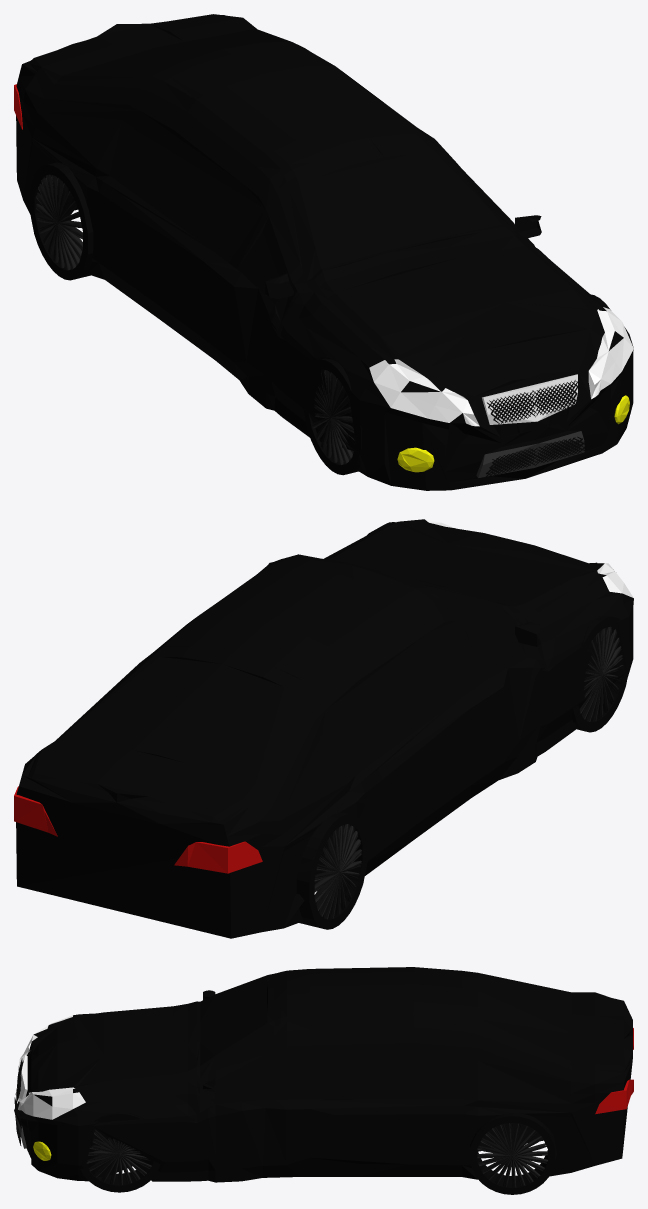
The model's file is CROWN_holefilled4.obj.
3 views of the same model, one above another, from view 1: azimuth 30°, elevation 25°; view 2: azimuth 150°, elevation 25°; view 3: azimuth 270°, elevation 25° (orthographic). The views are drawn at different scales.
Visible parts, largest first — view 1: object 2, auto_filled_holes; view 2: object 2, auto_filled_holes; view 3: object 2, auto_filled_holes.
Boxes of the visible parts, x1,y1,x2,y2 form: object 2: [14, 14, 633, 490]; auto_filled_holes: [53, 162, 610, 476]; object 2: [14, 519, 633, 938]; auto_filled_holes: [284, 622, 627, 927]; object 2: [14, 967, 633, 1194]; auto_filled_holes: [16, 1093, 165, 1181].
Bounding box in the file's own units: 38.53 × 28.52 × 99.82.
